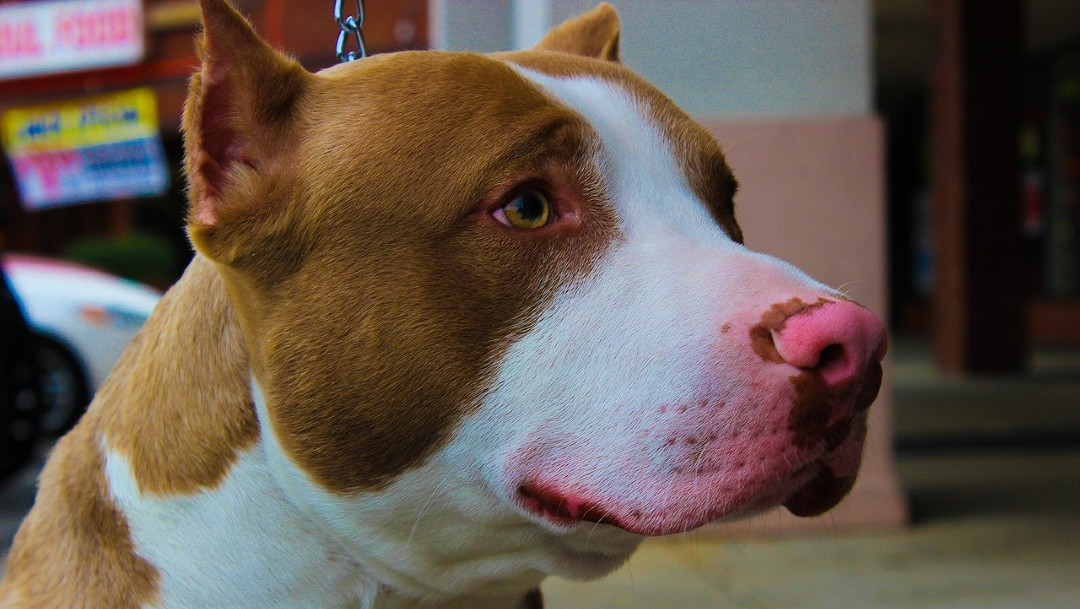Perro Pitbull: (143, 10, 926, 515)
